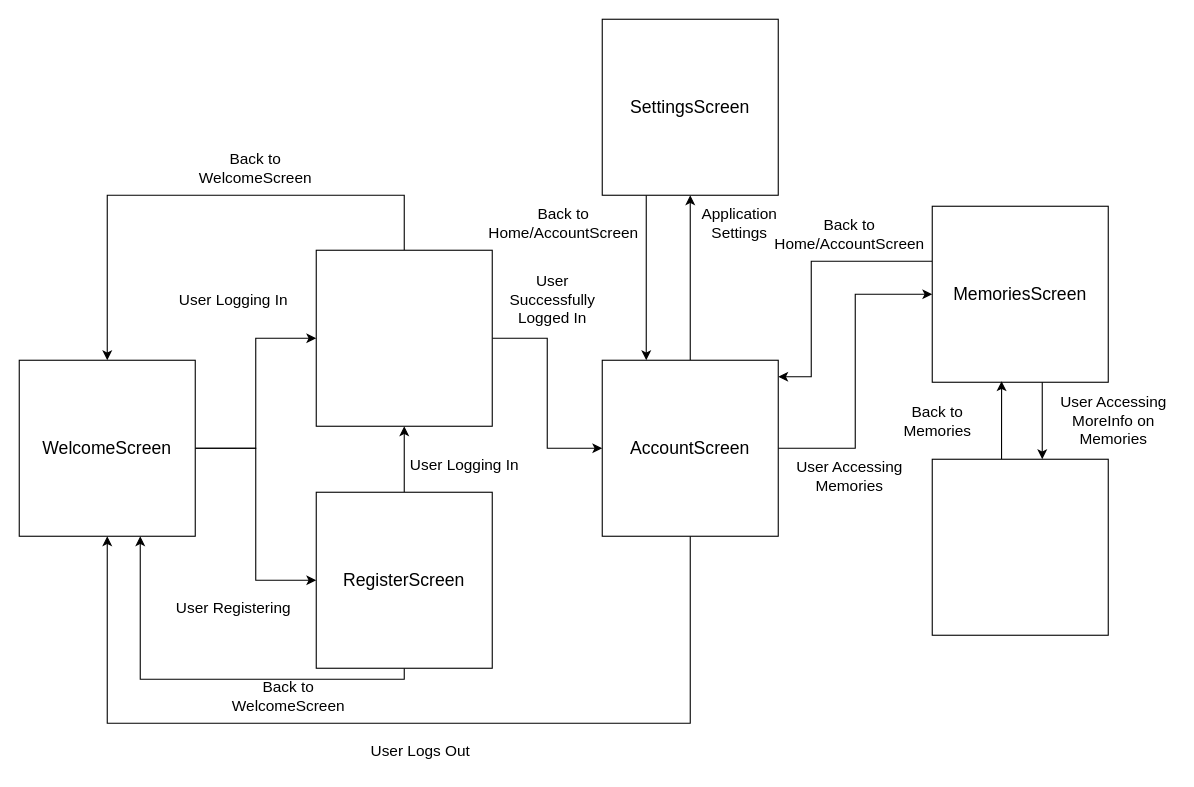
Image size: 1194x787. Some labels were removed from this diagram. Here are the shapes that lost their labels. From the top down, the box of each, then its label:
(315, 249, 492, 426): LoginScreen
(931, 458, 1108, 635): MoreInfoScreen
